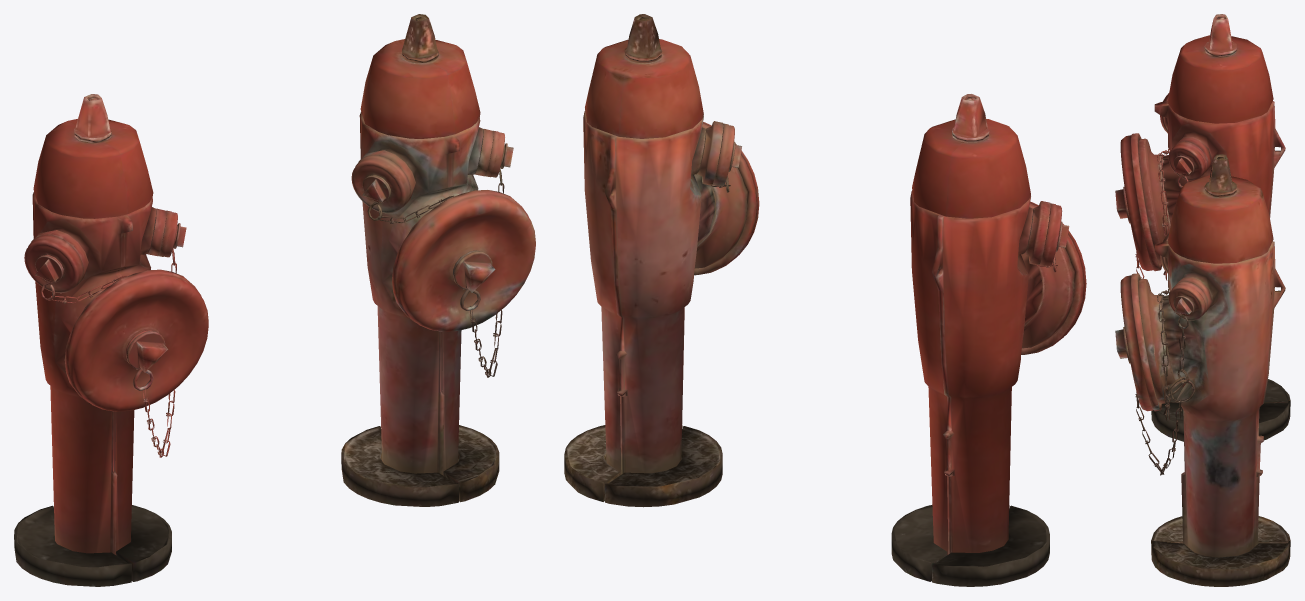
The model's file is fire_hydrant.glb.
The picture shows the model from 3 angles, left to right: view 1: azimuth 30°, elevation 25°; view 2: azimuth 150°, elevation 25°; view 3: azimuth 270°, elevation 25°; orthographic projection. The views are drawn at different scales.
Visible parts, largest first — view 1: fire_hydrant_aged, fire_hydrant, fire_hydrant_cap_01, fire_hydrant_cap_01_aged, fire_hydrant_cap_03, fire_hydrant_cap_03_aged, fire_hydrant_chain, fire_hydrant_chain_aged, fire_hydrant_cap_02, fire_hydrant_cap_02_aged; view 2: fire_hydrant_aged, fire_hydrant, fire_hydrant_cap_01, fire_hydrant_cap_01_aged, fire_hydrant_cap_03_aged, fire_hydrant_cap_03; view 3: fire_hydrant_aged, fire_hydrant, fire_hydrant_cap_01, fire_hydrant_cap_01_aged, fire_hydrant_chain_aged, fire_hydrant_cap_02_aged, fire_hydrant_cap_02, fire_hydrant_chain.
Part boxes in pixels (bbox=[...]): fire_hydrant_aged: bbox=[341, 14, 499, 506]; fire_hydrant: bbox=[14, 94, 171, 586]; fire_hydrant_cap_01: bbox=[64, 269, 208, 411]; fire_hydrant_cap_01_aged: bbox=[392, 190, 535, 331]; fire_hydrant_cap_03: bbox=[24, 235, 83, 293]; fire_hydrant_cap_03_aged: bbox=[351, 155, 410, 213]; fire_hydrant_chain: bbox=[40, 224, 177, 457]; fire_hydrant_chain_aged: bbox=[367, 145, 504, 377]; fire_hydrant_cap_02: bbox=[158, 210, 186, 257]; fire_hydrant_cap_02_aged: bbox=[485, 130, 513, 177]; fire_hydrant_aged: bbox=[564, 14, 746, 507]; fire_hydrant: bbox=[891, 94, 1074, 586]; fire_hydrant_cap_01: bbox=[1021, 201, 1086, 354]; fire_hydrant_cap_01_aged: bbox=[694, 122, 759, 275]; fire_hydrant_cap_03_aged: bbox=[712, 123, 741, 186]; fire_hydrant_cap_03: bbox=[1039, 203, 1069, 266]; fire_hydrant_aged: bbox=[1138, 154, 1290, 586]; fire_hydrant: bbox=[1138, 14, 1290, 441]; fire_hydrant_cap_01: bbox=[1115, 133, 1161, 271]; fire_hydrant_cap_01_aged: bbox=[1115, 273, 1161, 411]; fire_hydrant_chain_aged: bbox=[1135, 289, 1195, 475]; fire_hydrant_cap_02_aged: bbox=[1168, 281, 1208, 320]; fire_hydrant_cap_02: bbox=[1168, 141, 1208, 180]; fire_hydrant_chain: bbox=[1135, 149, 1193, 280].
Bounding box in the file's own units: 0.8746 × 0.7994 × 0.3173.
Materials: 2 (2 with a texture image).
